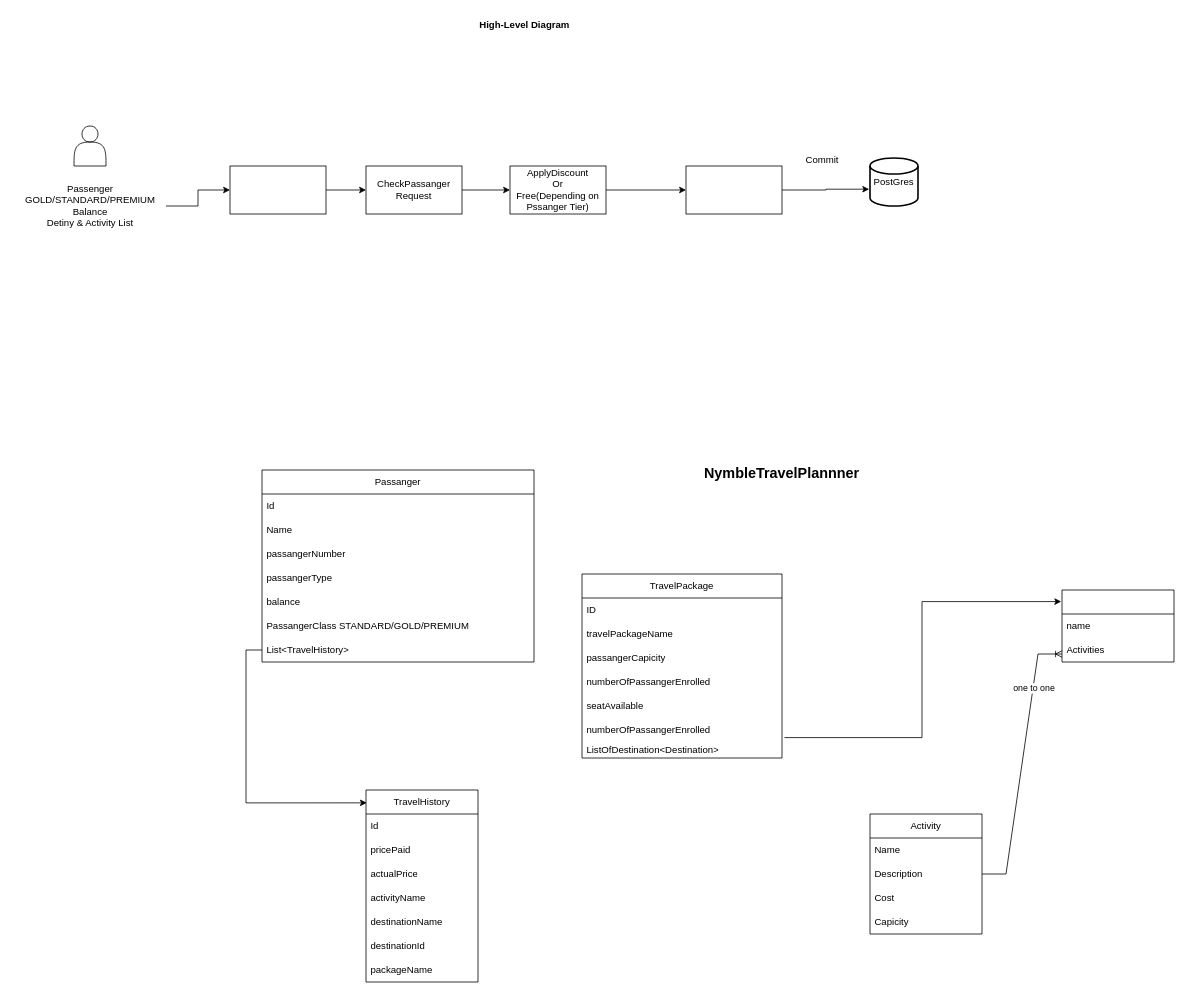
This 1188x996 diagram has some shape labels left out. Each missing label, with the box of its shape:
Check PassangerTier: (229, 165, 326, 214)
Destination: (1061, 589, 1174, 662)
UpdateCustomer UpdateTravelPackage: (685, 165, 782, 214)
